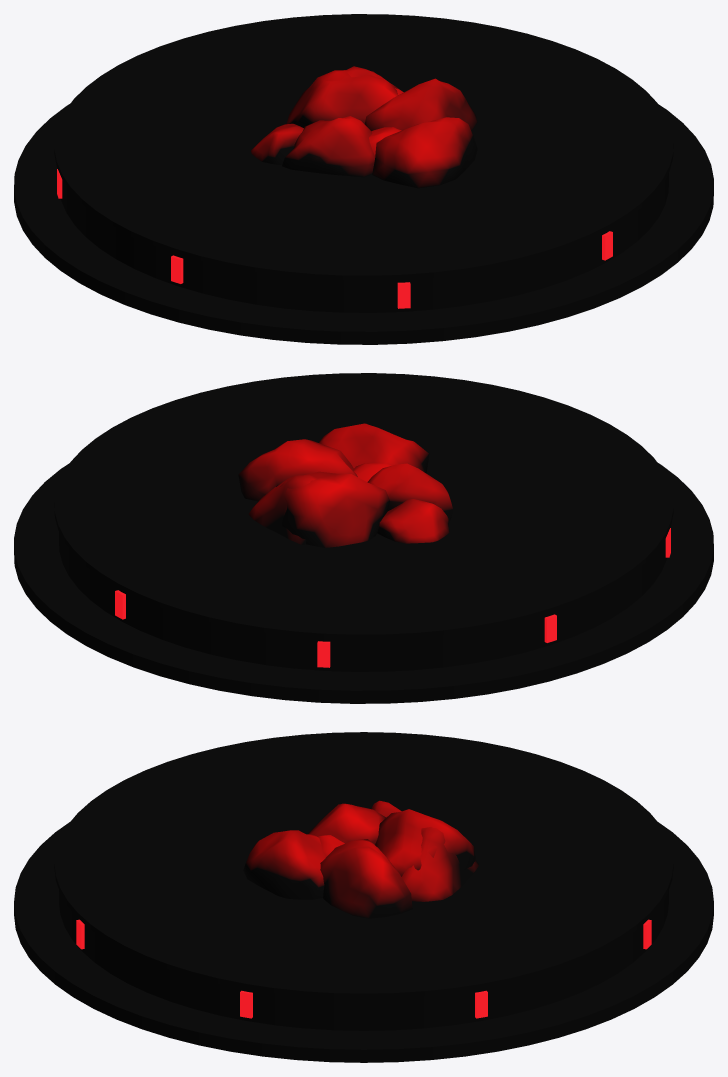
The model's file is katana_dais.glb.
3 views of the same model, one above another, from view 1: azimuth 30°, elevation 25°; view 2: azimuth 150°, elevation 25°; view 3: azimuth 270°, elevation 25° (orthographic).
Visible parts, largest first — view 1: katana_dais_LOD0; view 2: katana_dais_LOD0; view 3: katana_dais_LOD0.
Part boxes in pixels (box(x1,y1,x2,y2)): katana_dais_LOD0: box(14, 14, 713, 344); katana_dais_LOD0: box(14, 373, 713, 703); katana_dais_LOD0: box(14, 732, 713, 1062).
Size of what is drawn, in the model's own units: 7.8 by 1.24 by 7.8.
